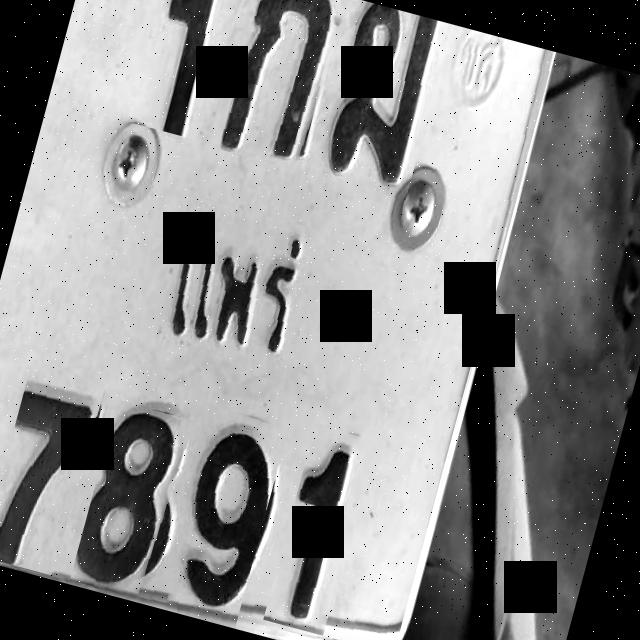letters: (152, 404, 289, 628), (315, 0, 452, 201), (69, 399, 194, 602), (262, 422, 380, 636), (217, 0, 351, 173), (0, 359, 106, 576), (112, 0, 248, 141)
license-plate: (0, 0, 546, 640)
province: (150, 195, 328, 384)
